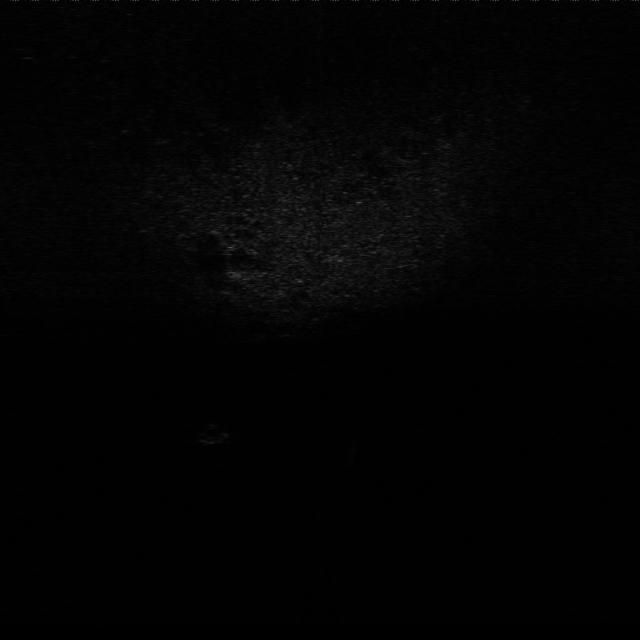ball: (194, 418, 233, 446)
